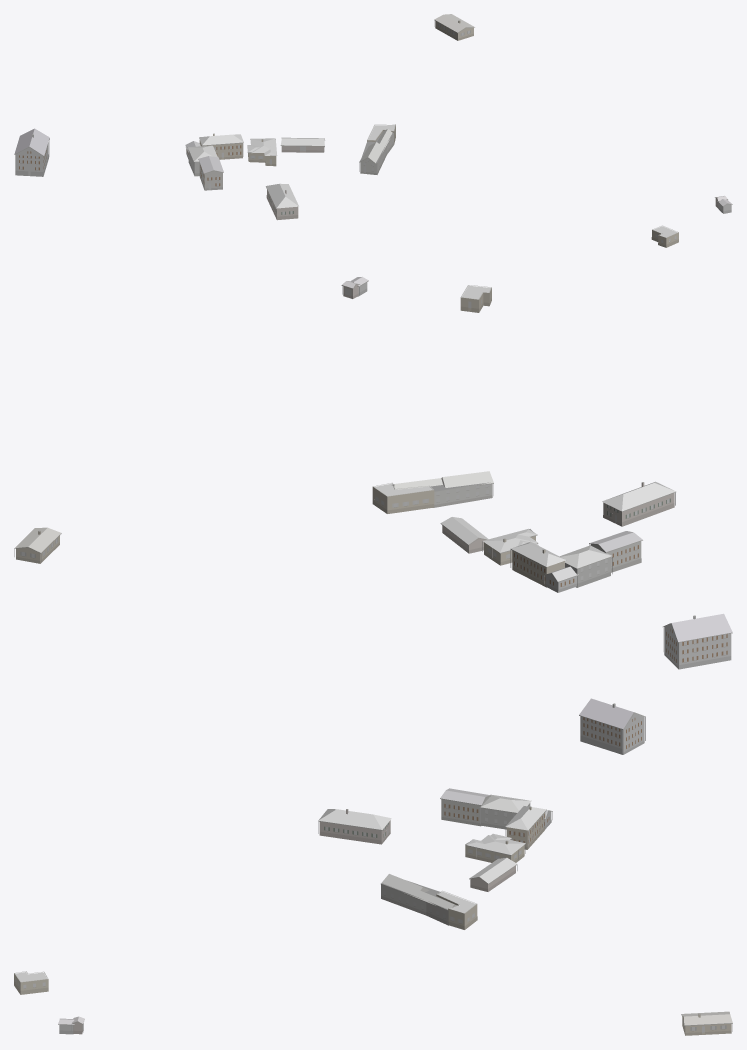
The picture shows the model from 3 angles, top to bottom: view 1: azimuth 30°, elevation 25°; view 2: azimuth 150°, elevation 25°; view 3: azimuth 270°, elevation 25°; orthographic projection. The views are drawn at different scales.
Visible parts, largest first — view 1: bld; view 2: bld; view 3: bld.
Boxes of the visible parts, x1=… form: bld: x1=14, y1=14, x2=732, y2=247; bld: x1=14, y1=277, x2=732, y2=669; bld: x1=14, y1=698, x2=732, y2=1035.
Size of the model in its own units: 231 by 16.01 by 229.
